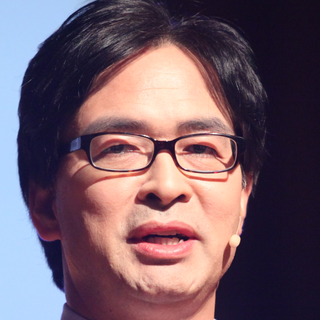eye: (96, 138, 142, 160), (180, 140, 224, 162)
